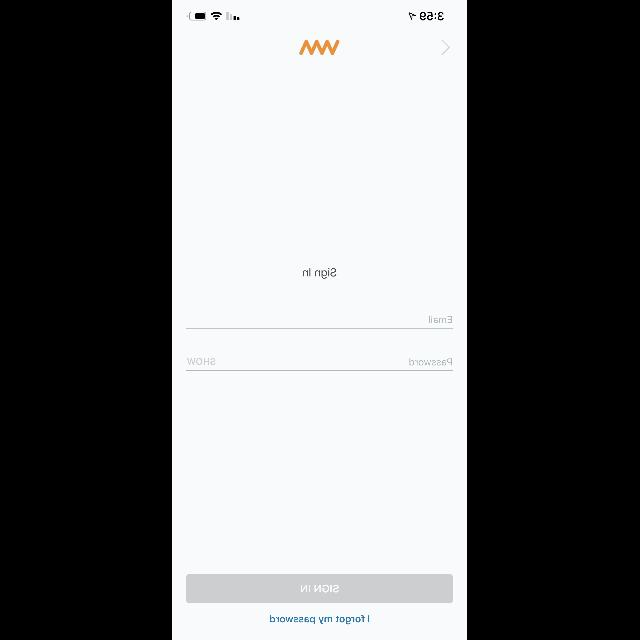icon: (442, 40, 450, 56)
image: (300, 40, 340, 56)
input: (186, 359, 454, 371), (186, 316, 454, 328)
text: (270, 615, 370, 625), (303, 268, 337, 278), (411, 358, 453, 366), (188, 359, 216, 365), (430, 316, 452, 322)
textbutton: (186, 574, 454, 602)
uppertaskbar: (188, 12, 444, 20)
